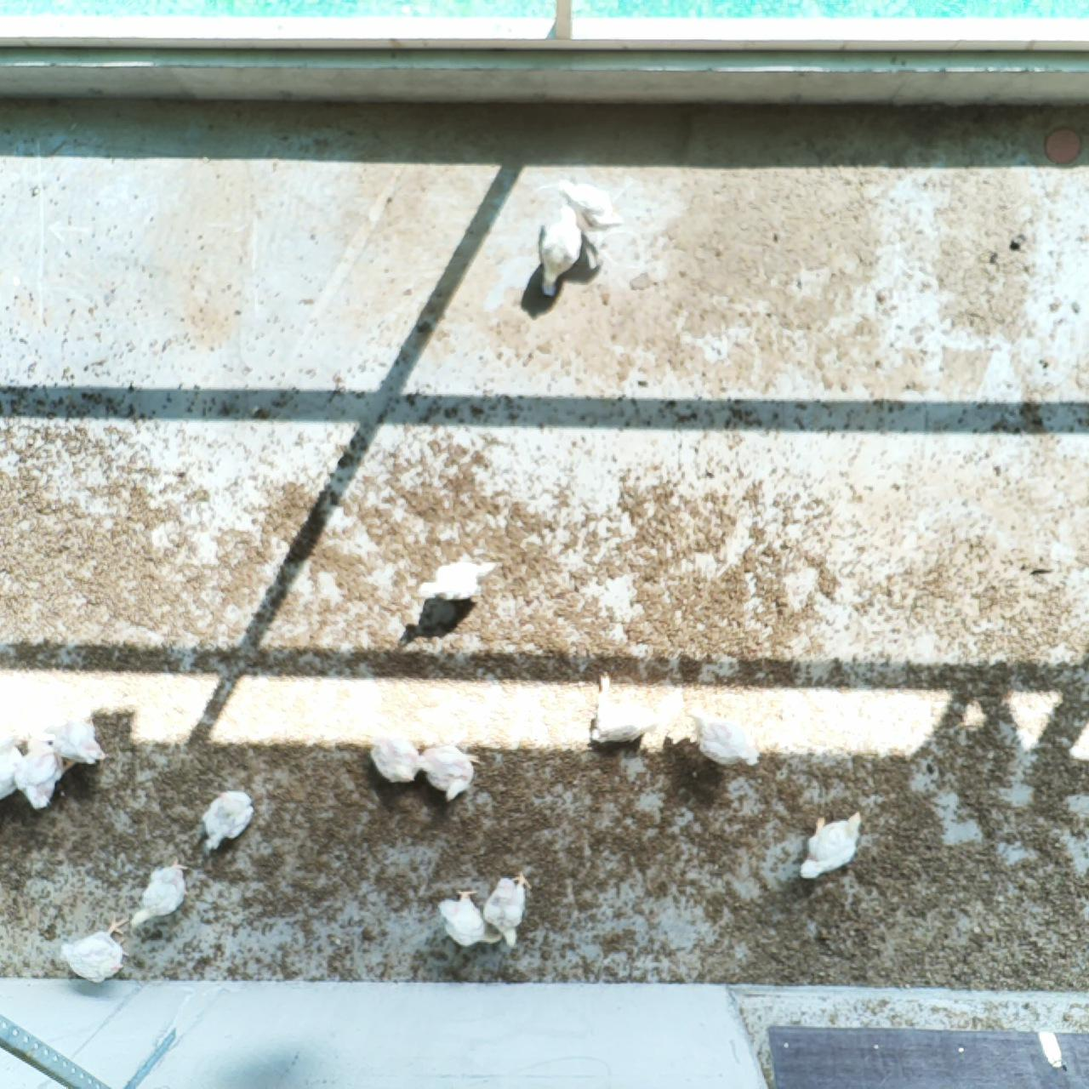chicken: (61, 912, 133, 985), (593, 669, 661, 744), (796, 811, 864, 881), (131, 856, 192, 931), (686, 706, 761, 767), (15, 739, 77, 812), (538, 203, 583, 299), (416, 739, 483, 802), (483, 870, 535, 949), (418, 557, 501, 604), (438, 888, 500, 948), (202, 790, 257, 853), (560, 179, 624, 231), (48, 717, 111, 768), (370, 734, 422, 784), (0, 741, 26, 799)
